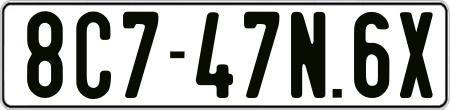4: (193, 10, 235, 99)
6: (354, 11, 395, 102)
7: (241, 9, 281, 98), (123, 9, 163, 95)
8: (26, 8, 62, 99)
C: (76, 10, 116, 97)
N: (291, 10, 327, 96)
X: (400, 9, 434, 95)
